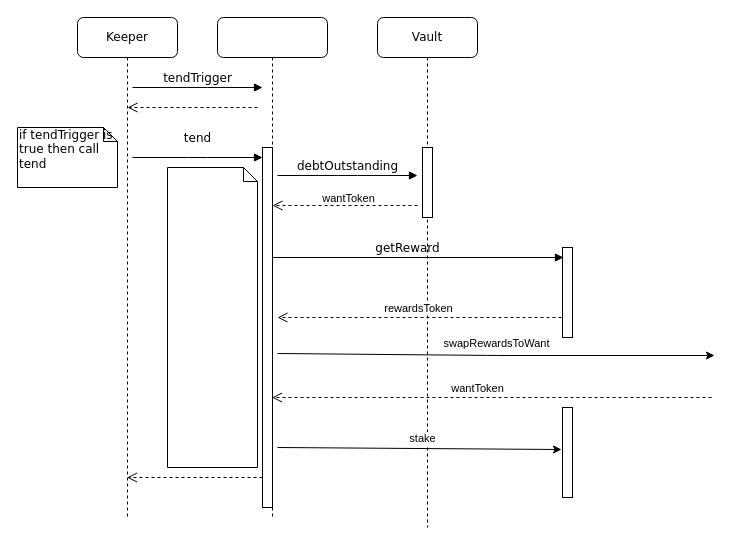
This 740x545 diagram has some shape labels left out. Each missing label, with the centre of its shape:
"adjustPosition" goes at (212,317).
"Strategy" goes at (272,267).
